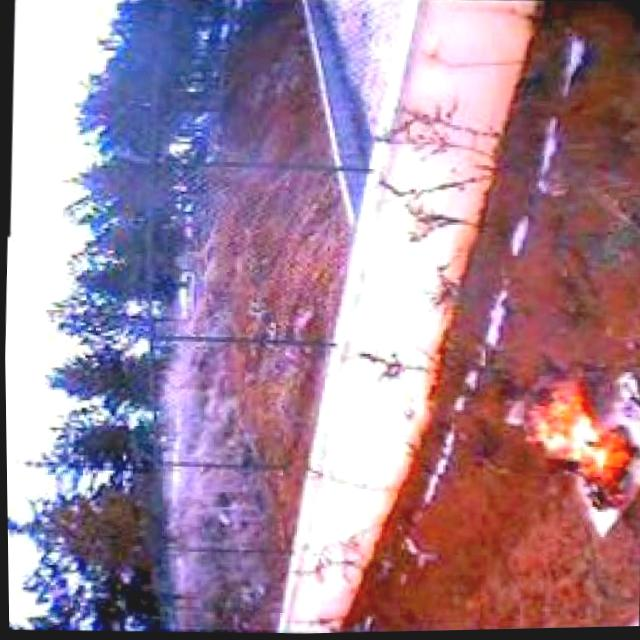Fire: (497, 360, 640, 520)
